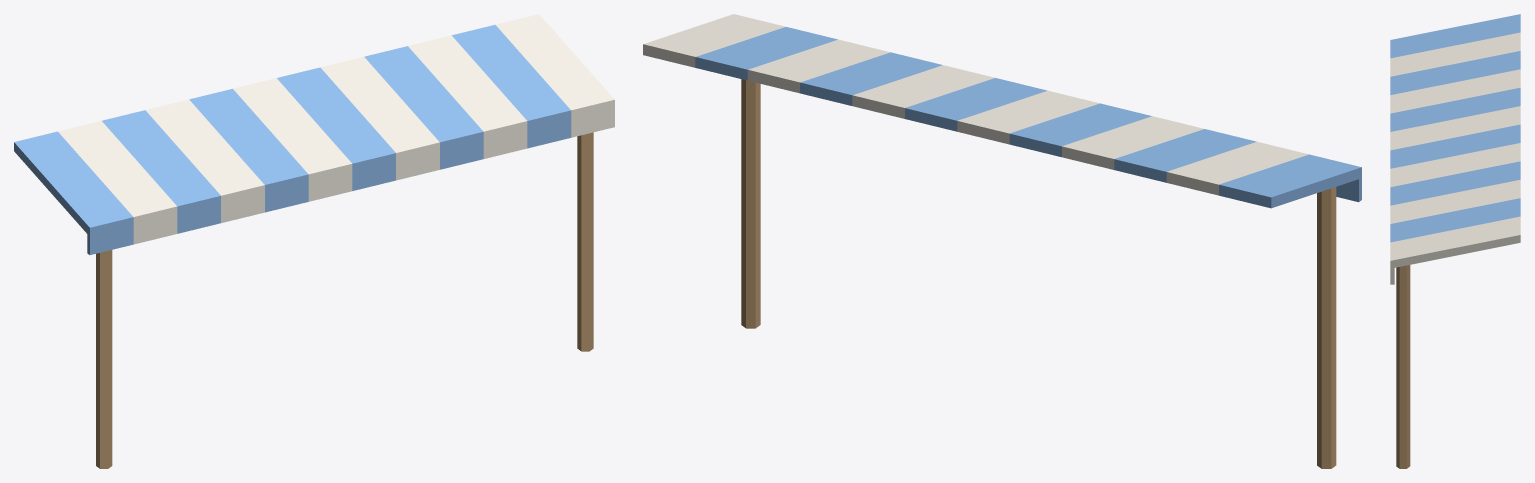
The model's file is awning_w6_0_sky.glb.
The picture shows the model from 3 angles, left to right: view 1: azimuth 30°, elevation 25°; view 2: azimuth 150°, elevation 25°; view 3: azimuth 270°, elevation 25°; orthographic projection. The views are drawn at different scales.
Visible parts, largest first — view 1: Player; view 2: Player; view 3: Player.
Boxes of the visible parts, x1,y1,x2,y2 form: Player: (14, 14, 614, 468); Player: (643, 14, 1361, 468); Player: (1390, 14, 1520, 468).
Size of the model in its own units: 6 by 3.05 by 1.5.
